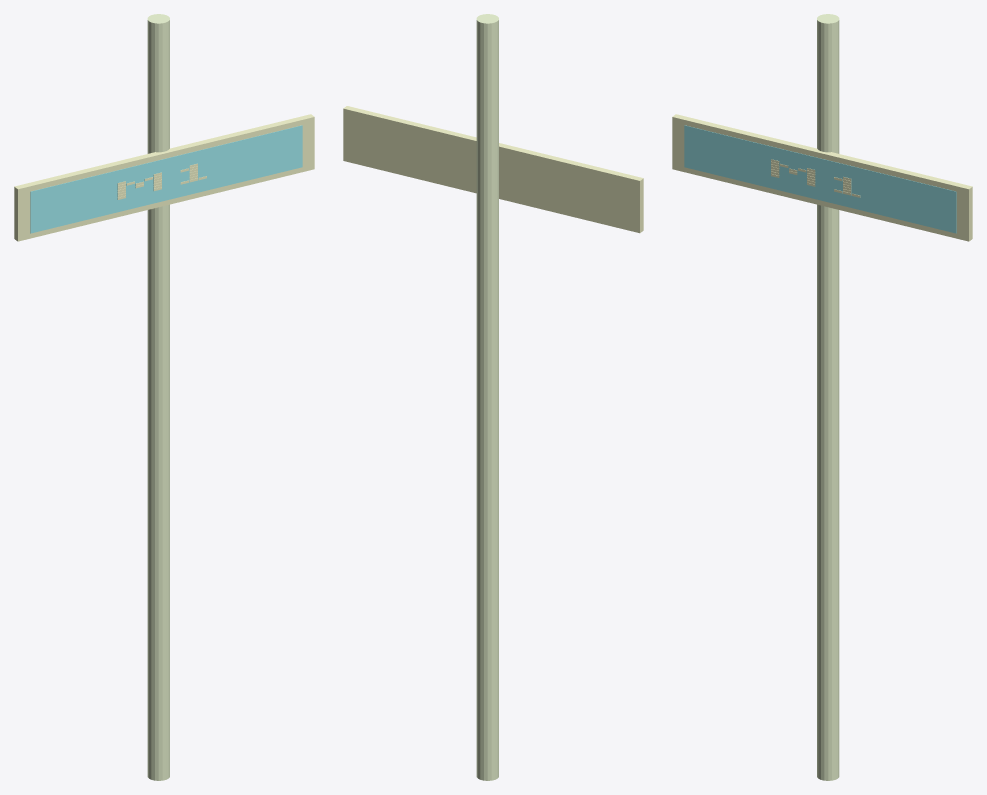
Rendered from sign_route_m1_shield.glb.
3 renders of one model, left to right at view 1: azimuth 30°, elevation 25°; view 2: azimuth 150°, elevation 25°; view 3: azimuth 330°, elevation 25°, orthographic.
Parts seen in each view (by area): view 1: pole, layer_1_00, plate_base_00; view 2: pole, plate_base_00; view 3: pole, layer_1_00, plate_base_00.
Boxes of the visible parts, x1=… form: pole: x1=147, y1=14, x2=169, y2=780; layer_1_00: x1=30, y1=125, x2=302, y2=233; plate_base_00: x1=14, y1=114, x2=314, y2=241; pole: x1=476, y1=14, x2=498, y2=780; plate_base_00: x1=343, y1=106, x2=643, y2=233; pole: x1=817, y1=14, x2=839, y2=780; layer_1_00: x1=684, y1=125, x2=956, y2=233; plate_base_00: x1=672, y1=114, x2=972, y2=241.
Bounding box in the file's own units: 0.9024 × 2.2 × 0.0725.
